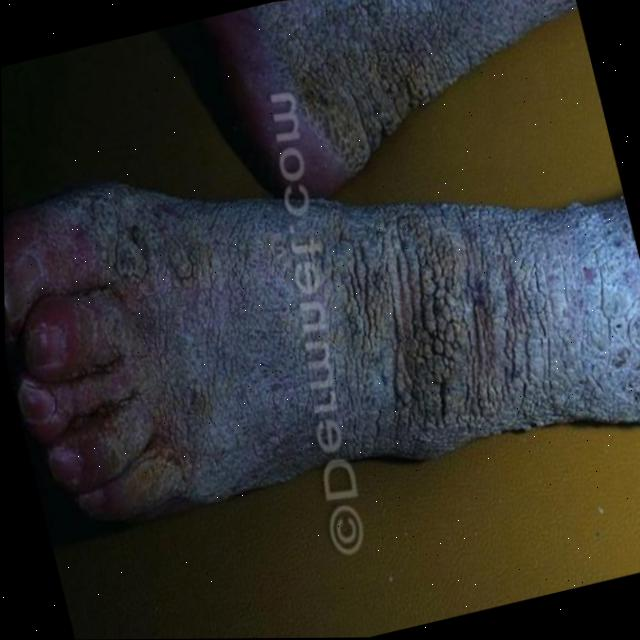Eczema: (42, 79, 640, 508), (283, 0, 443, 102)
